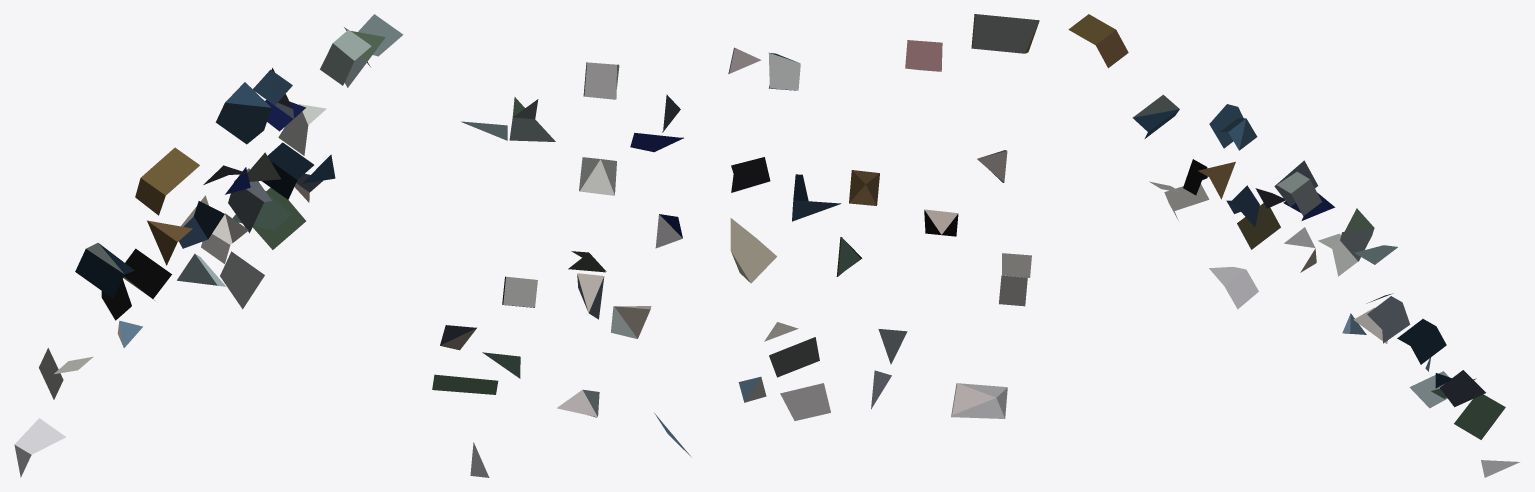
3 views of the same model, side by side, from view 1: azimuth 30°, elevation 25°; view 2: azimuth 150°, elevation 25°; view 3: azimuth 270°, elevation 25° (orthographic). The views are drawn at different scales.
Size of the model in its own units: 182 by 143 by 178.
